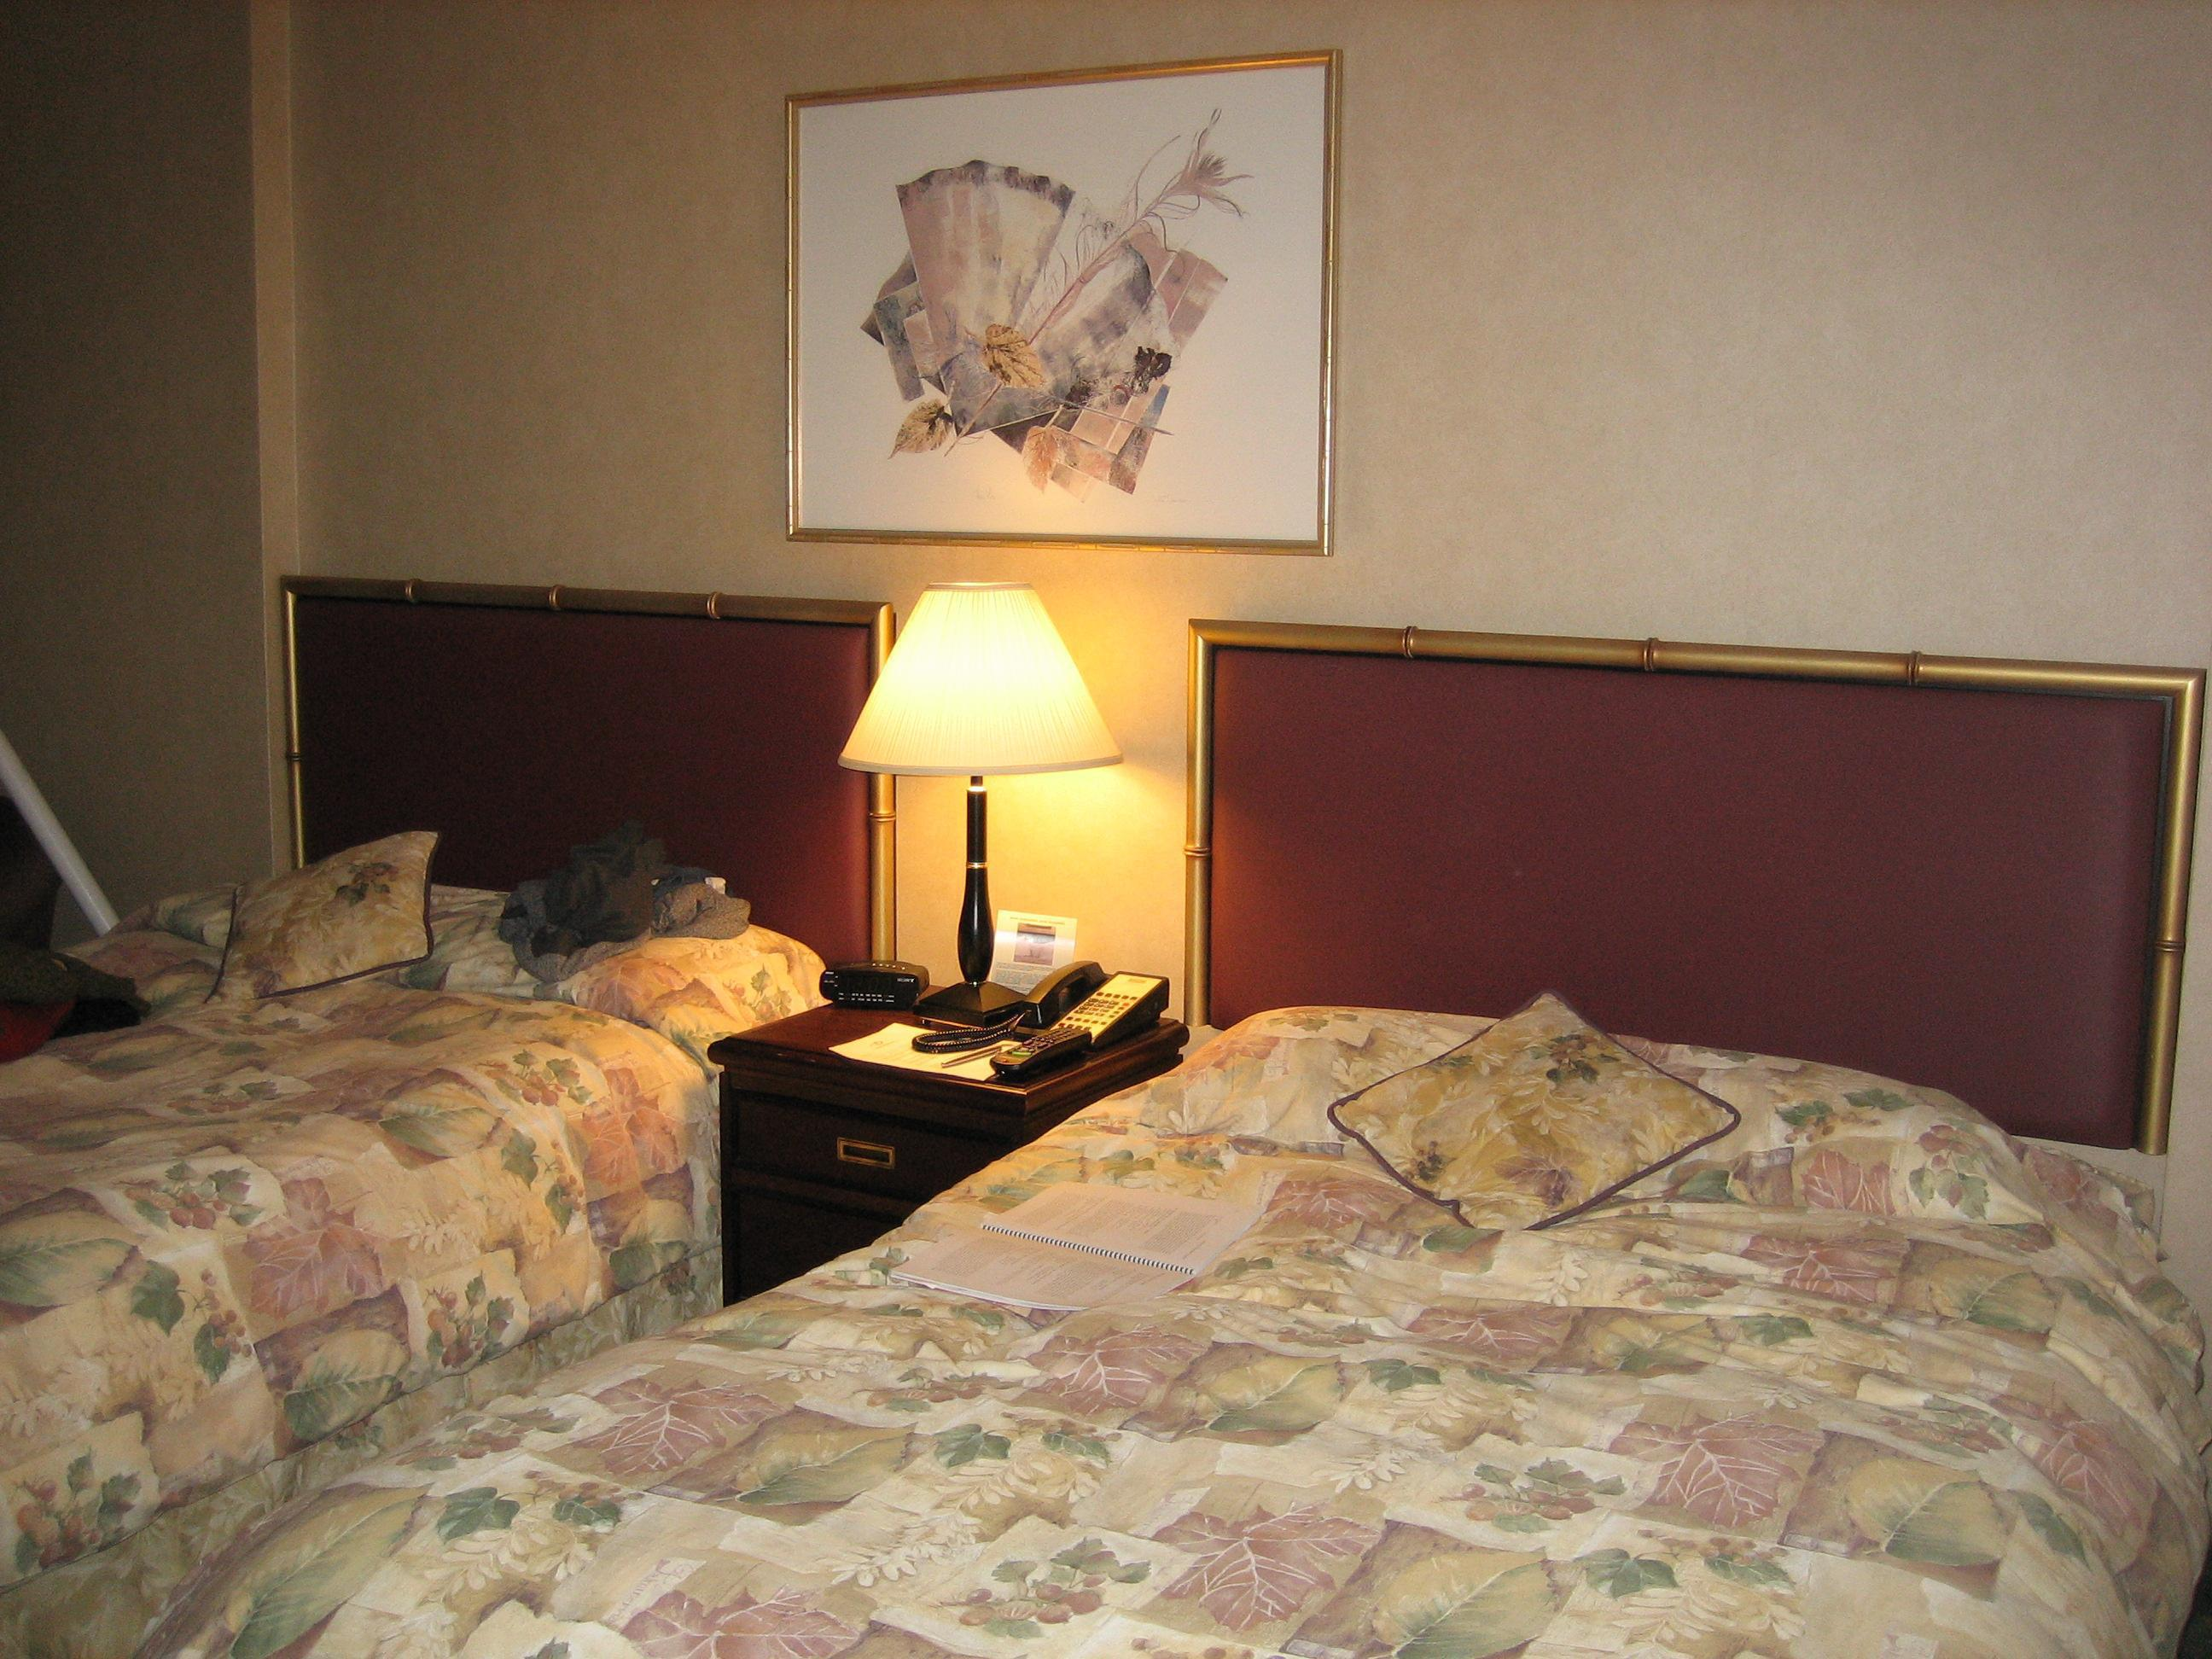Cama: (71, 620, 2209, 1652), (24, 554, 895, 1622)
